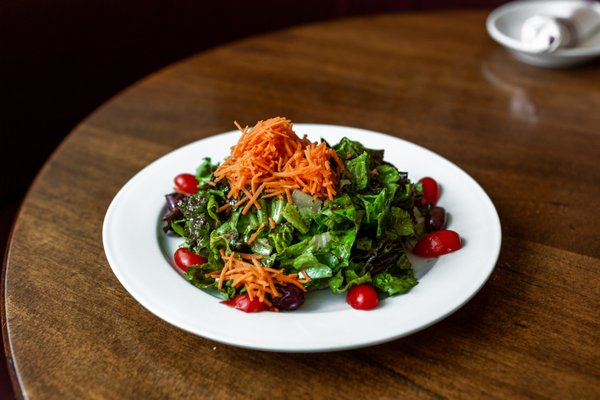sushi: (485, 0, 600, 67)
